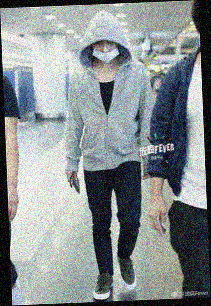mask_weared_incorrect: (91, 38, 120, 64)
